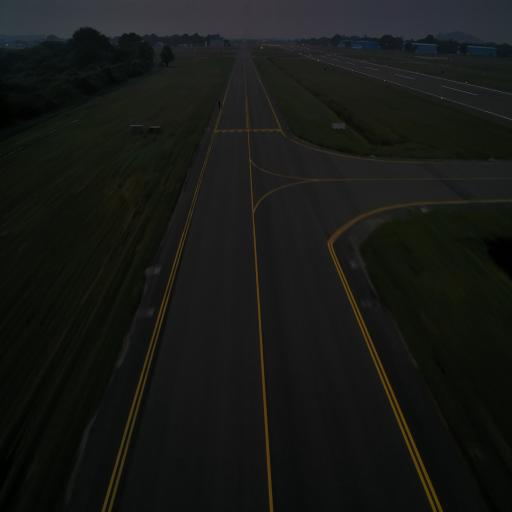on: (154, 262, 159, 272), (352, 256, 357, 264), (422, 203, 426, 211), (371, 152, 375, 158), (208, 126, 210, 129), (287, 126, 288, 128)
